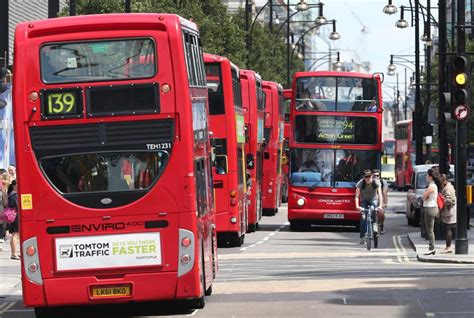bus: (13, 13, 217, 310), (291, 71, 381, 230)
person: (421, 170, 440, 255), (355, 172, 379, 238), (439, 176, 455, 252)
